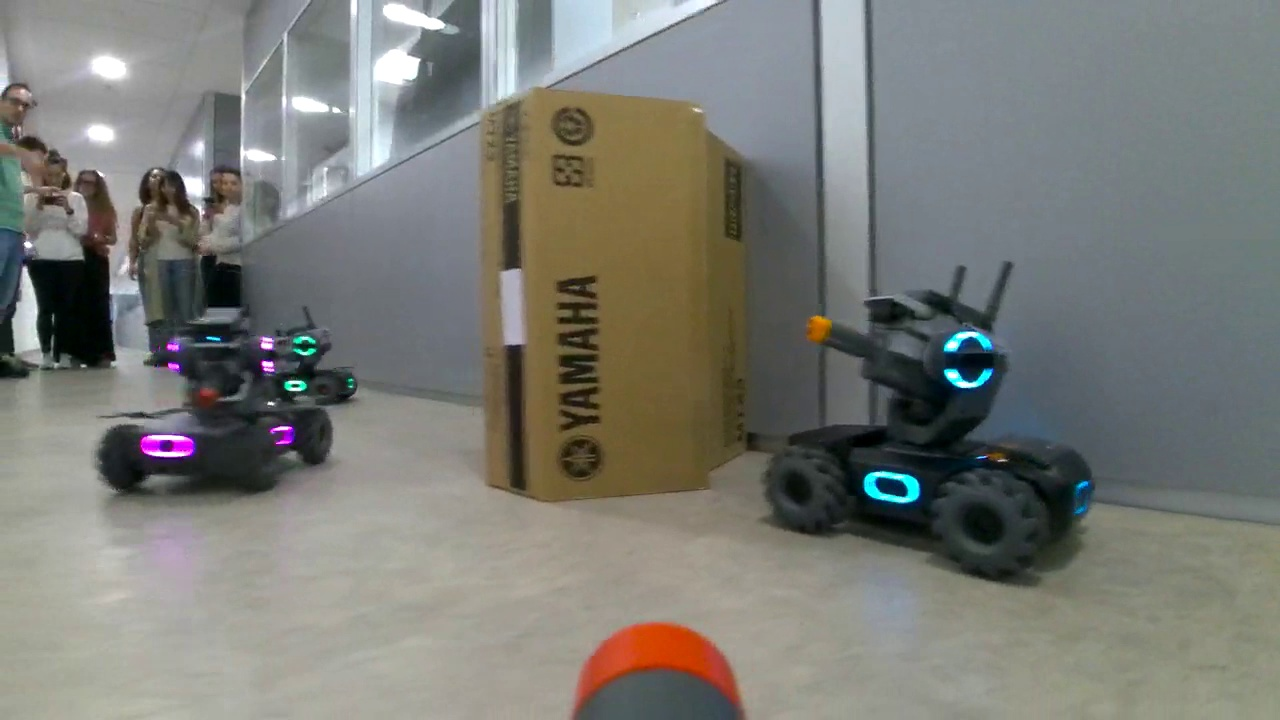robot: (759, 289, 1099, 587), (91, 303, 333, 497), (277, 325, 359, 399)
